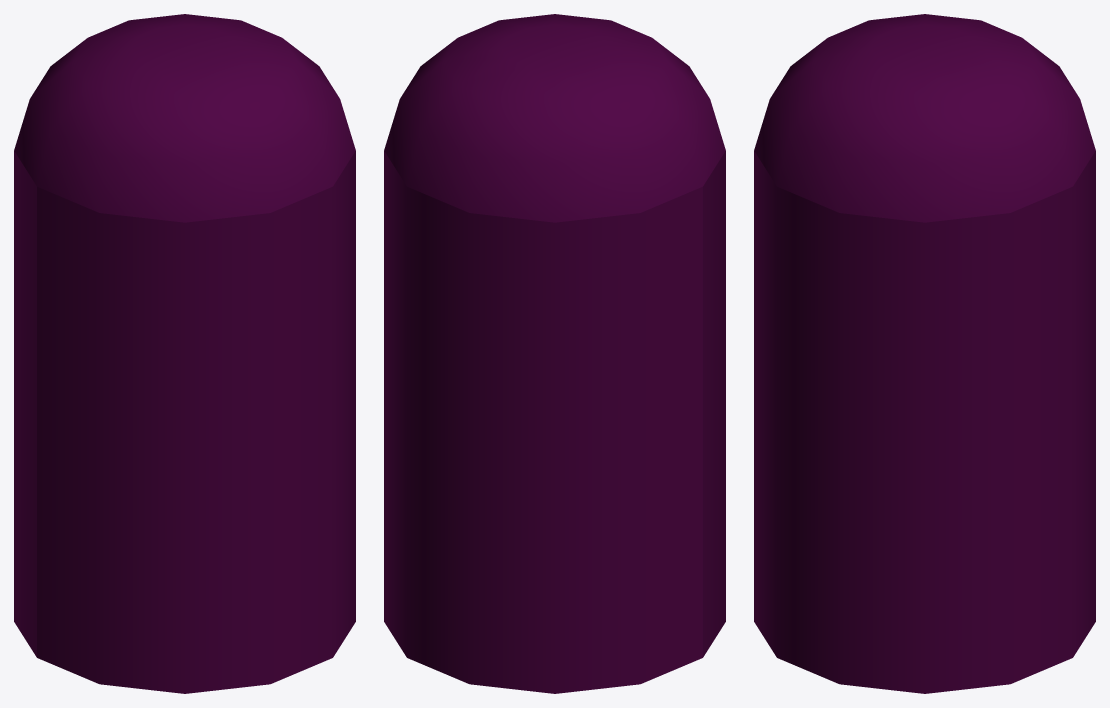
Rendered from Workshop_Cont4.fbx.
3 renders of one model, left to right at view 1: azimuth 30°, elevation 25°; view 2: azimuth 150°, elevation 25°; view 3: azimuth 270°, elevation 25°, orthographic.
Parts seen in each view (by area): view 1: Workshop_Cont4; view 2: Workshop_Cont4; view 3: Workshop_Cont4.
Part boxes in pixels (bbox=[...]): Workshop_Cont4: bbox=[14, 14, 355, 693]; Workshop_Cont4: bbox=[384, 14, 725, 693]; Workshop_Cont4: bbox=[754, 14, 1095, 693].
Size of the model in its own units: 22.73 by 42.13 by 22.73.
